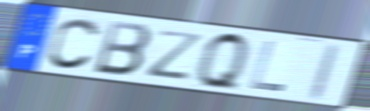B: (91, 19, 154, 79)
C: (46, 16, 103, 71)
I: (304, 42, 344, 103)
L: (247, 39, 286, 94)
Q: (195, 29, 251, 94)
Z: (145, 28, 207, 82)
